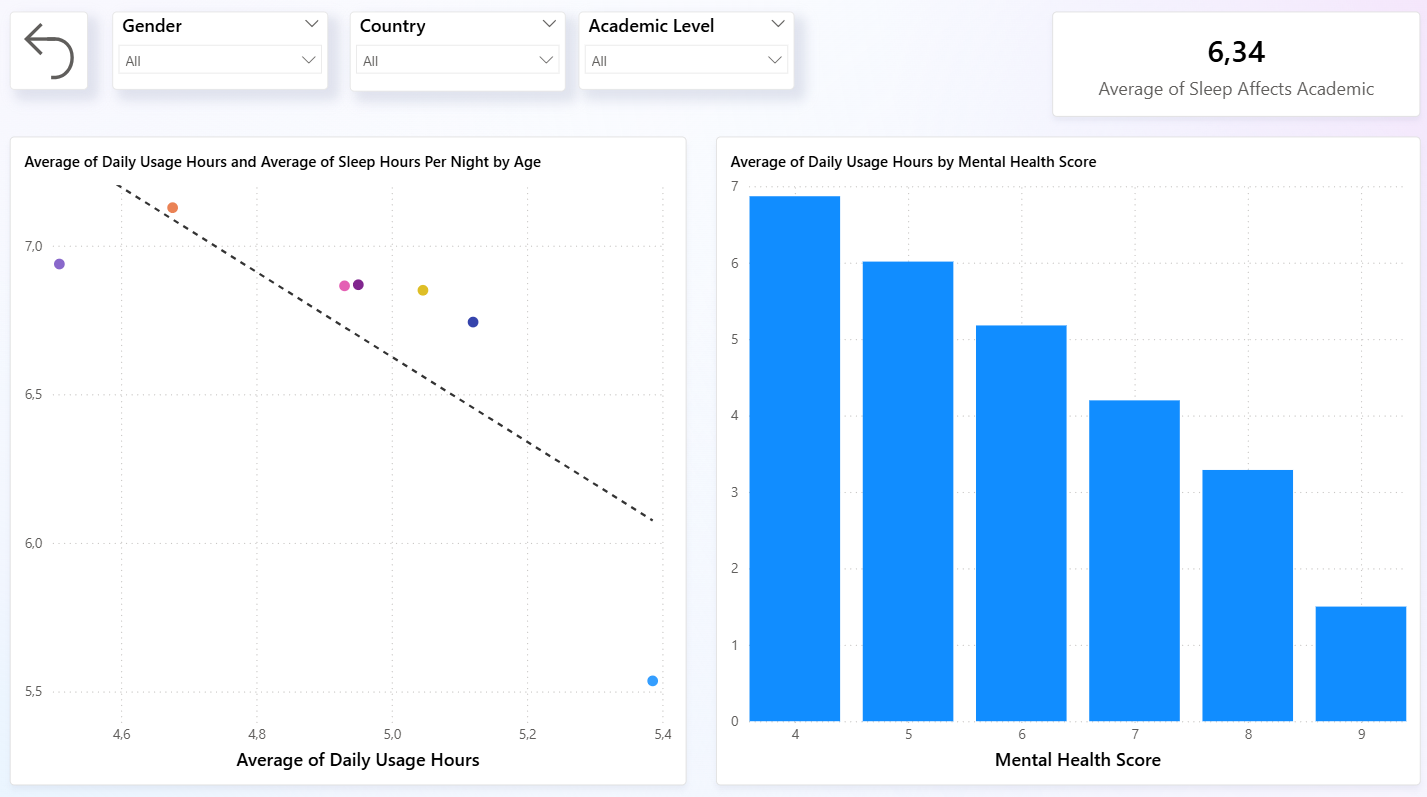

The dashboard page shown, as its layout file describes it:
{"tool":"powerbi","page":{"name":"Impact on Well-being","canvas":[1280,720],"ordinal":2},"visuals":[{"type":"actionButton","box":[12.5,11.2,69.9,69.9],"z":0},{"type":"scatterChart","fields":{"X":["Avg(Students Social Media Addiction.Avg_Daily_Usage_Hours)"],"Y":["Avg(Students Social Media Addiction.Sleep_Hours_Per_Night)"],"Category":["Students Social Media Addiction.Age"]},"box":[12.3,121.8,601.3,576.8],"z":1000},{"type":"clusteredColumnChart","fields":{"Category":["Students Social Media Addiction.Mental_Health_Score"],"Y":["Avg(Students Social Media Addiction.Avg_Daily_Usage_Hours)"]},"box":[640,121.8,626.8,576.8],"z":2000},{"type":"card","fields":{"Values":["Students Social Media Addiction.Avg_Sleep_Affects_Academic"]},"box":[939.2,11.3,327.6,93.5],"z":3000},{"type":"slicer","fields":{"Values":["Students Social Media Addiction.Gender"]},"box":[103.5,11.2,192.1,69.9],"z":4000},{"type":"slicer","fields":{"Values":["Students Social Media Addiction.Country"]},"box":[314.4,11.2,192.1,71.1],"z":5000},{"type":"slicer","fields":{"Values":["Students Social Media Addiction.Academic_Level"]},"box":[517.7,11.2,192.1,69.9],"z":6000}]}

Visuals, with their boxes in screenshot pixels (x1, y1, x2, y2), scaled from the page's 1280x720 canvas onto the 1427x797 screenshot:
actionButton: left=14, top=12, right=92, bottom=90
scatterChart - Avg(Students Social Media Addiction.Avg_Daily_Usage_Hours) x Avg(Students Social Media Addiction.Sleep_Hours_Per_Night): left=14, top=135, right=684, bottom=773
clusteredColumnChart - Students Social Media Addiction.Mental_Health_Score x Avg(Students Social Media Addiction.Avg_Daily_Usage_Hours): left=714, top=135, right=1412, bottom=773
card - Students Social Media Addiction.Avg_Sleep_Affects_Academic: left=1047, top=13, right=1412, bottom=116
slicer - Students Social Media Addiction.Gender: left=115, top=12, right=330, bottom=90
slicer - Students Social Media Addiction.Country: left=351, top=12, right=565, bottom=91
slicer - Students Social Media Addiction.Academic_Level: left=577, top=12, right=791, bottom=90
